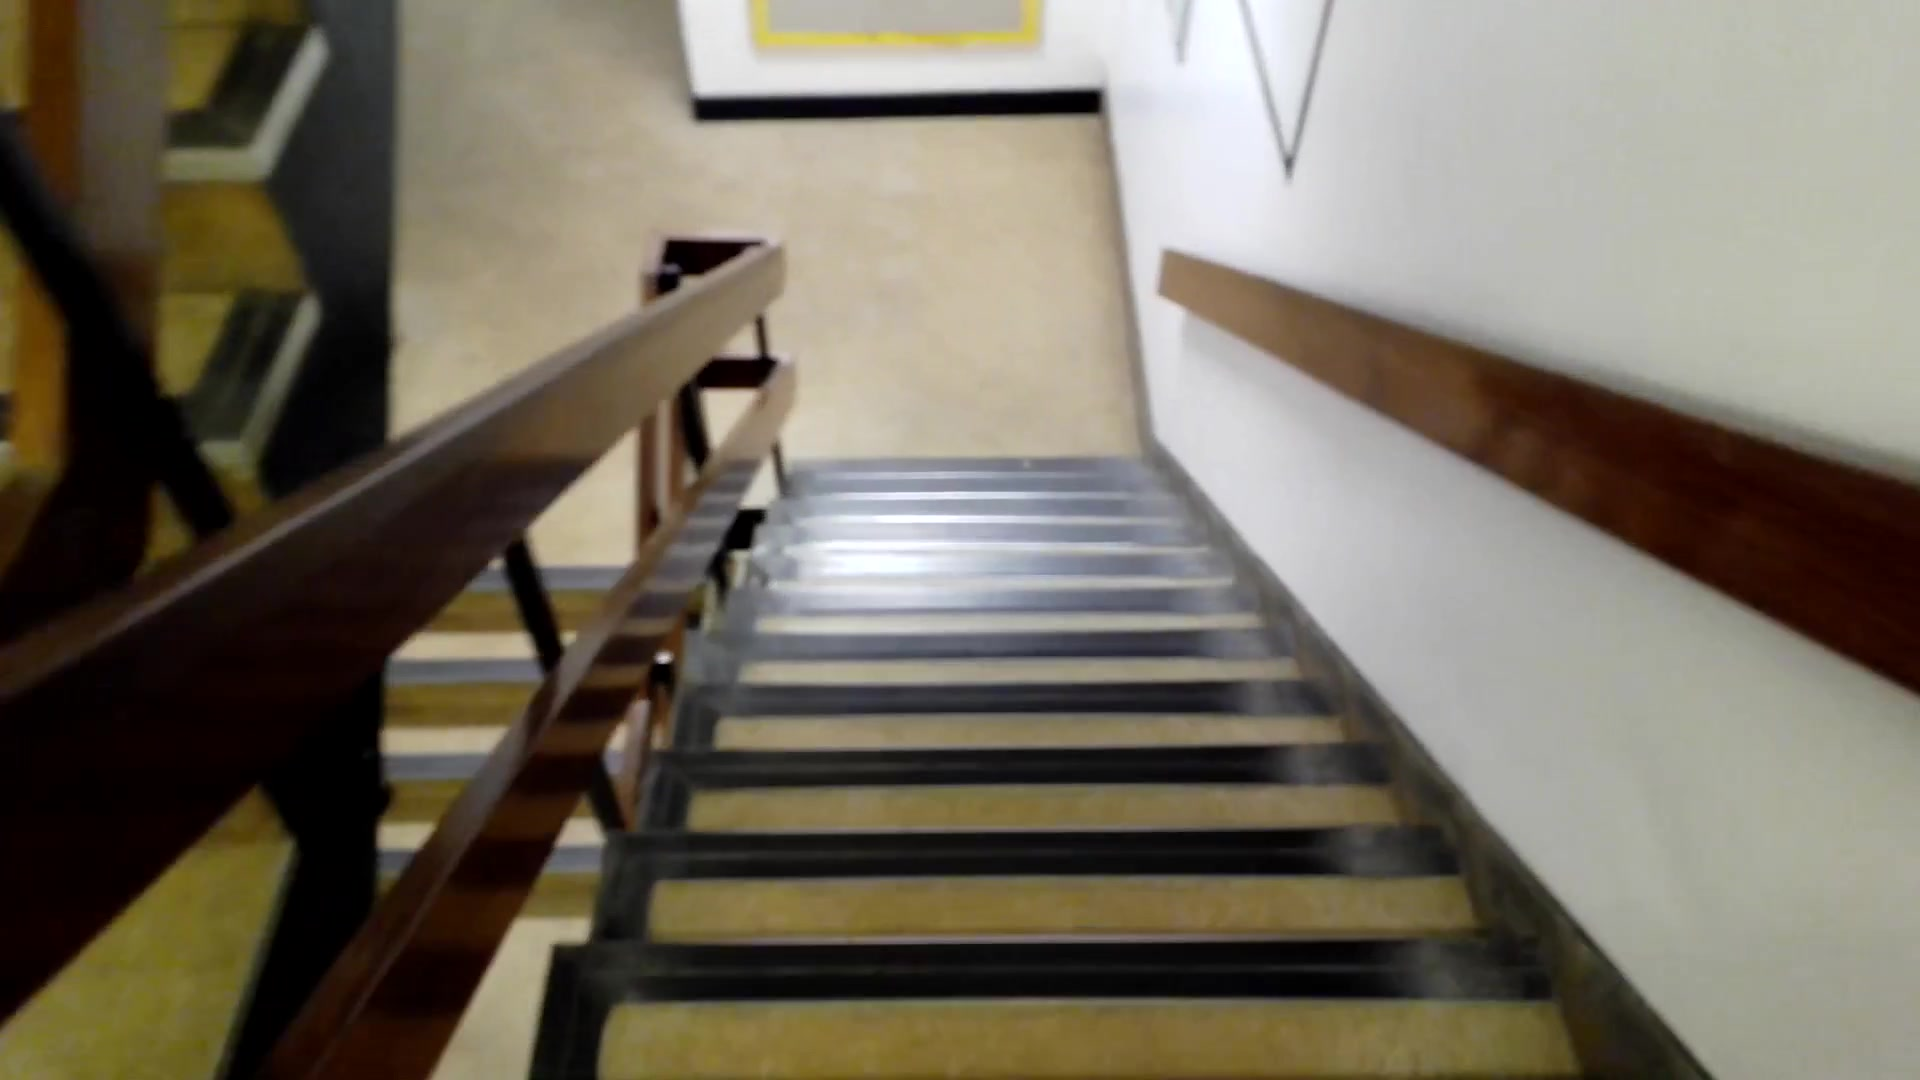Stairs: (649, 440, 1602, 1054)
